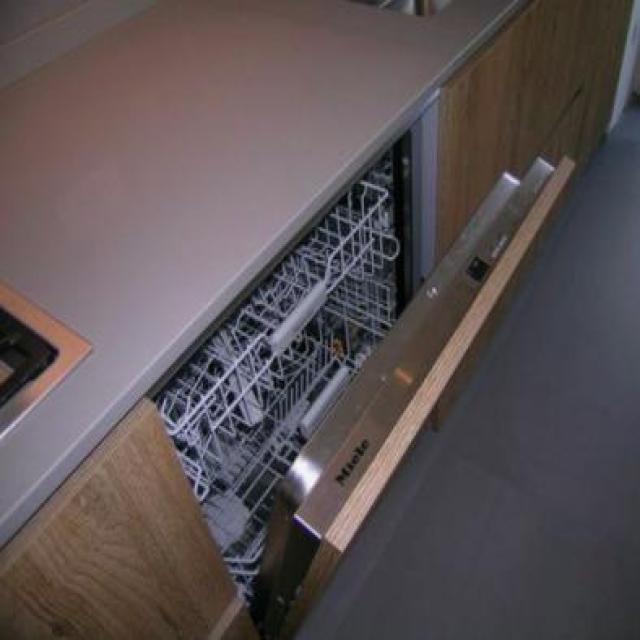dishwasher: (135, 67, 578, 614)
